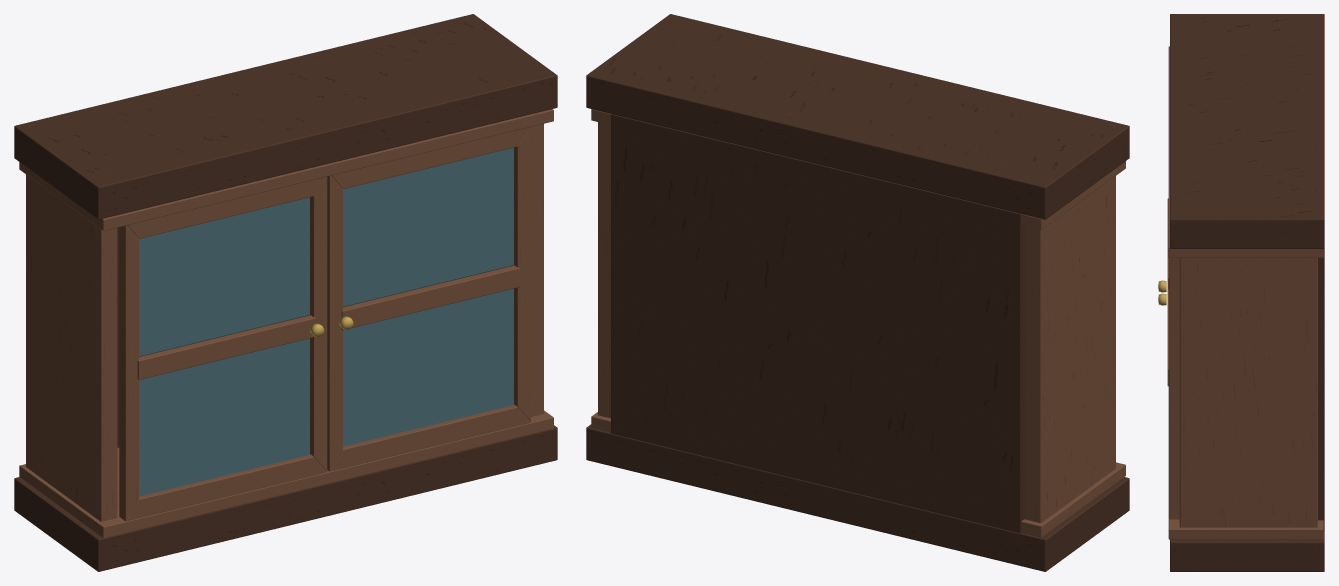
Rendered from WallCabinet_FUR06.fbx.
3 renders of one model, left to right at view 1: azimuth 30°, elevation 25°; view 2: azimuth 150°, elevation 25°; view 3: azimuth 270°, elevation 25°, orthographic. The views are drawn at different scales.
Parts seen in each view (by area): view 1: WallCabinet; view 2: WallCabinet; view 3: WallCabinet.
Boxes of the visible parts, left/top/right/bottom form: WallCabinet: left=14, top=14, right=557, bottom=571; WallCabinet: left=586, top=14, right=1129, bottom=571; WallCabinet: left=1158, top=14, right=1324, bottom=571.
Bounding box in the file's own units: 0.88 × 0.704 × 0.301.
1 material, 1 textured.
